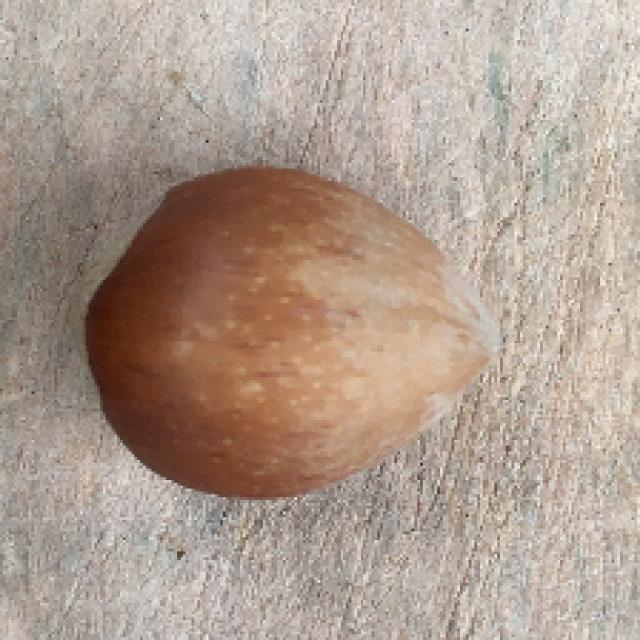qualityHazelnut: (74, 152, 508, 517)
